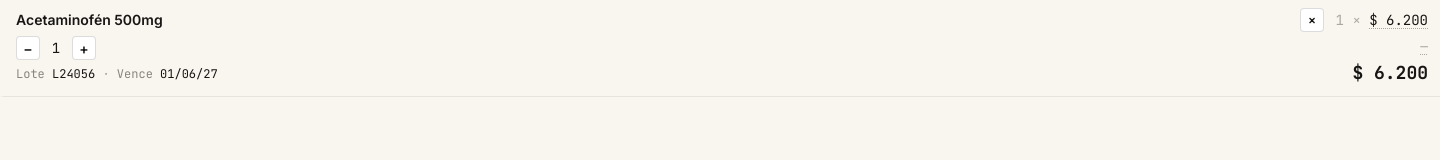
CartLineItem › mouse-only editing › opens the price editor when the live price is clicked
Click the button named "Editar precio": {"x": 1399, "y": 20} 1369,8 -> 1428,32
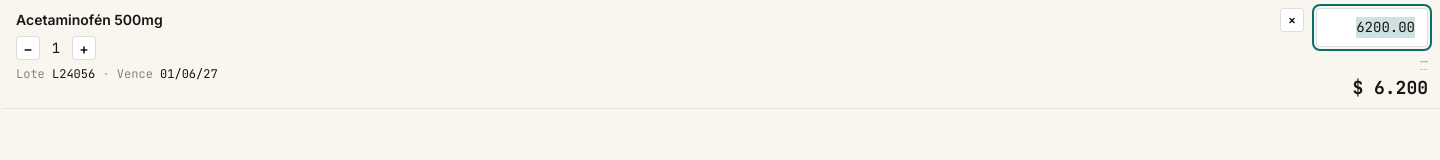
Expected: the number field named "Editar precio" is shown, 1316,8 -> 1428,47
